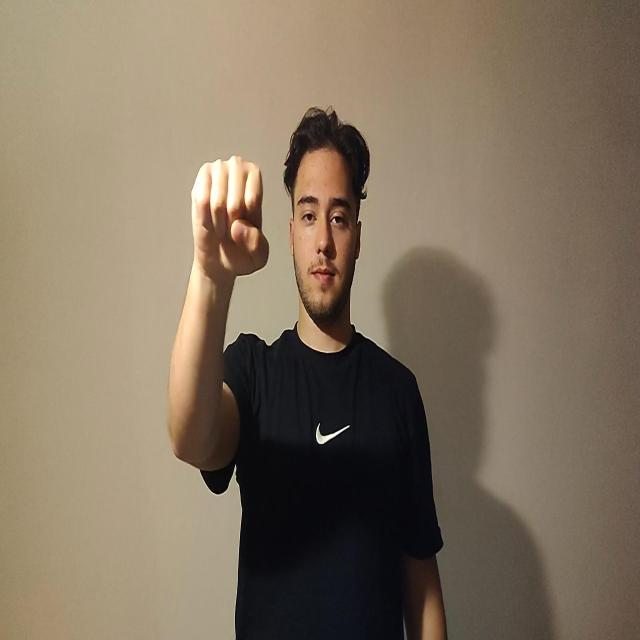yes: (190, 153, 270, 284)
